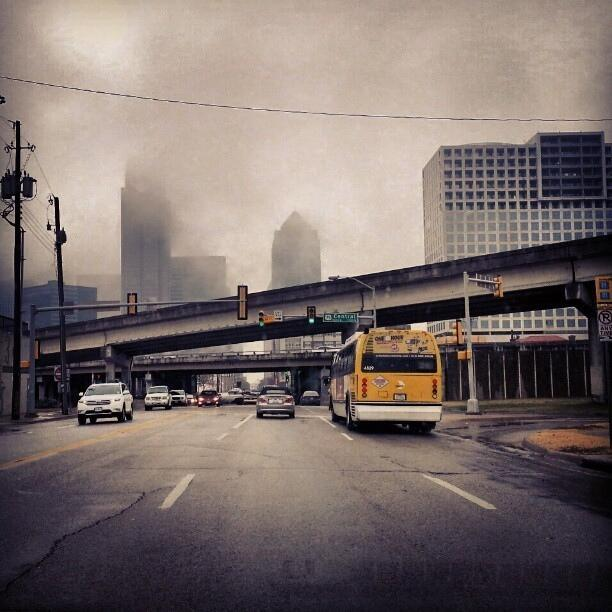bus: (328, 332, 443, 435)
car: (76, 382, 134, 426), (256, 386, 296, 420), (144, 386, 173, 412), (197, 389, 222, 408), (221, 390, 245, 405), (300, 391, 320, 406), (170, 390, 186, 406), (184, 394, 198, 406), (243, 394, 258, 404)
